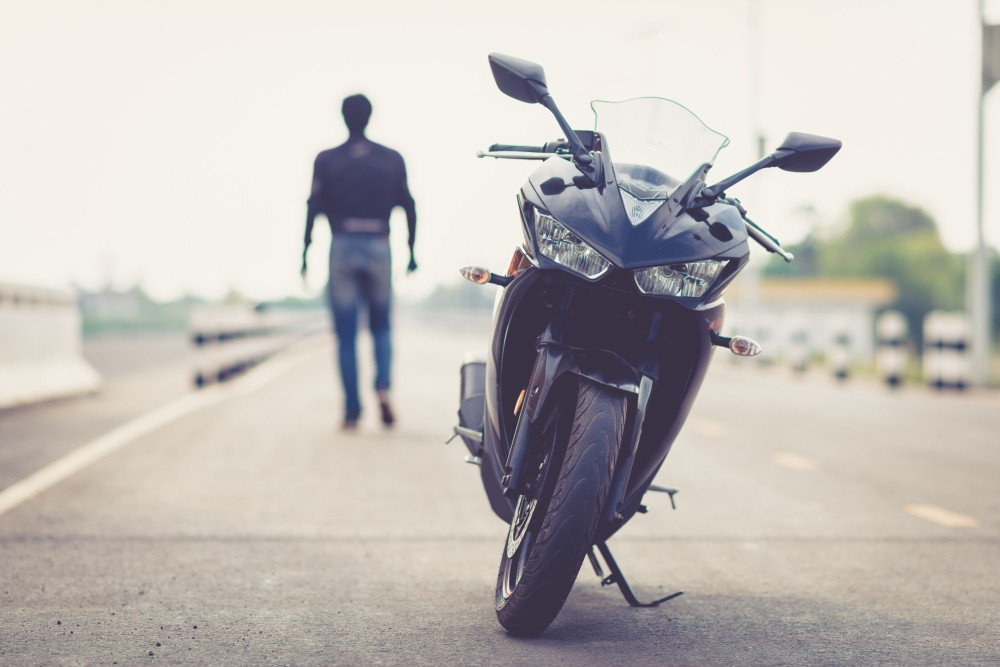bike: (449, 52, 844, 643)
